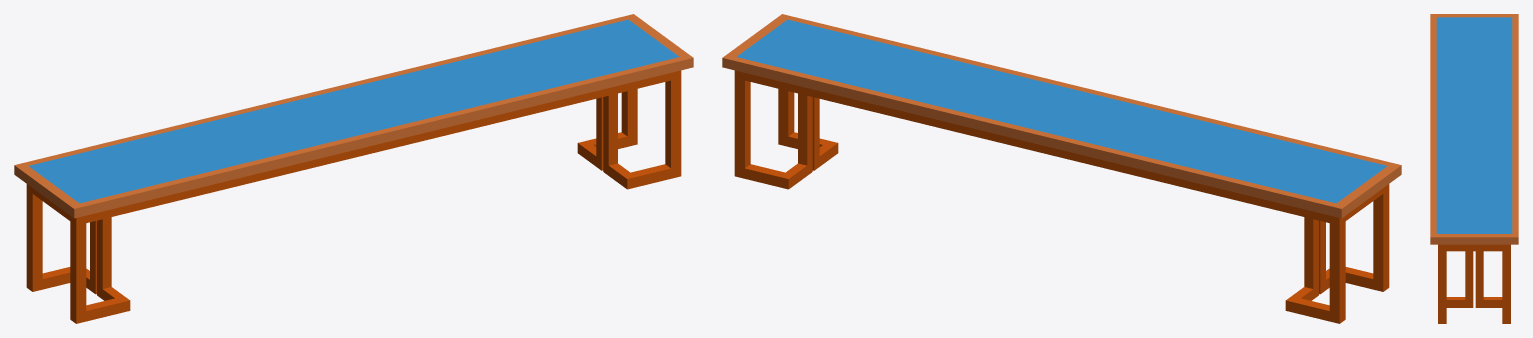
The model's file is Wall Table lv3.fbx.
3 renders of one model, left to right at view 1: azimuth 30°, elevation 25°; view 2: azimuth 150°, elevation 25°; view 3: azimuth 270°, elevation 25°, orthographic. The views are drawn at different scales.
Parts seen in each view (by area): view 1: Wall_Table_lv3; view 2: Wall_Table_lv3; view 3: Wall_Table_lv3.
Boxes of the visible parts, <box> form: Wall_Table_lv3: <box>14,14,693,323</box>; Wall_Table_lv3: <box>722,14,1401,323</box>; Wall_Table_lv3: <box>1430,14,1518,323</box>.
Size of the model in its own units: 803 by 149 by 134.
